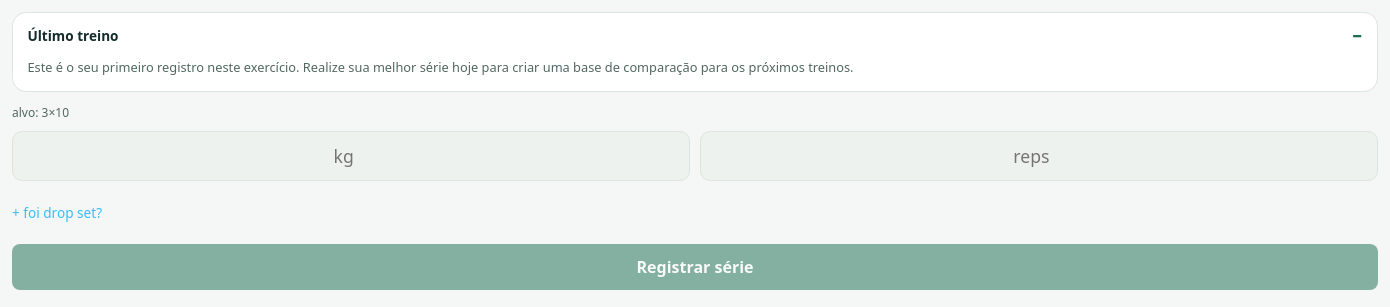
Test: bloco Último treino alterna conteúdo pelo botão
Expected: the text "primeiro registro neste exercício" is shown, [27,58,854,76]
Click the button "Último treino −".
click(73, 35)  # box [13,13,1377,58]
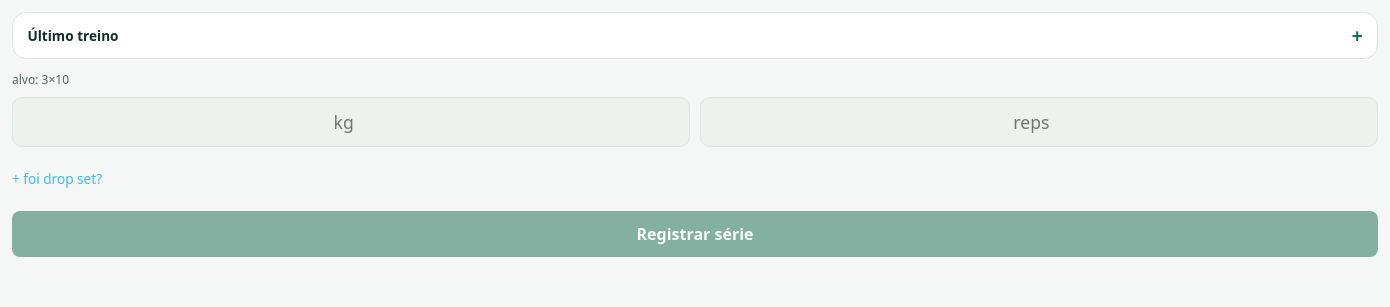
Now the text "primeiro registro neste exercício" is gone
